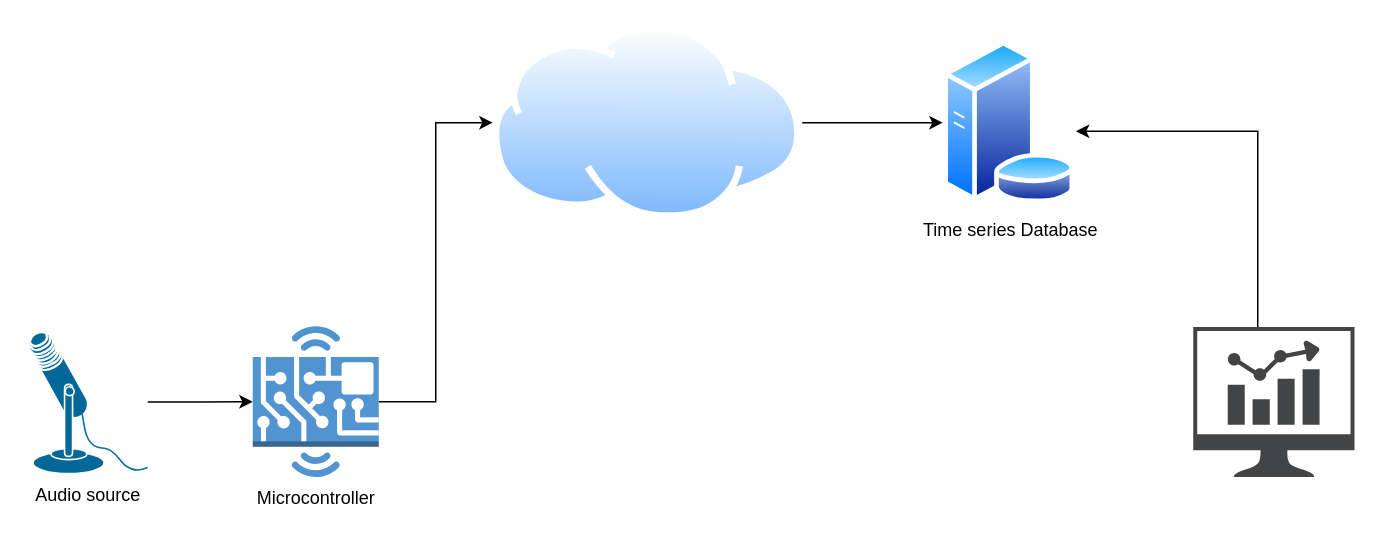
Image size: 1380x536. Some labels were removed from this diagram. The box of each missing label's shape, as (x1, y1, x2, y2) in pixels:
Dashboard view: (1192, 326, 1354, 476)
Network: (492, 24, 801, 219)
